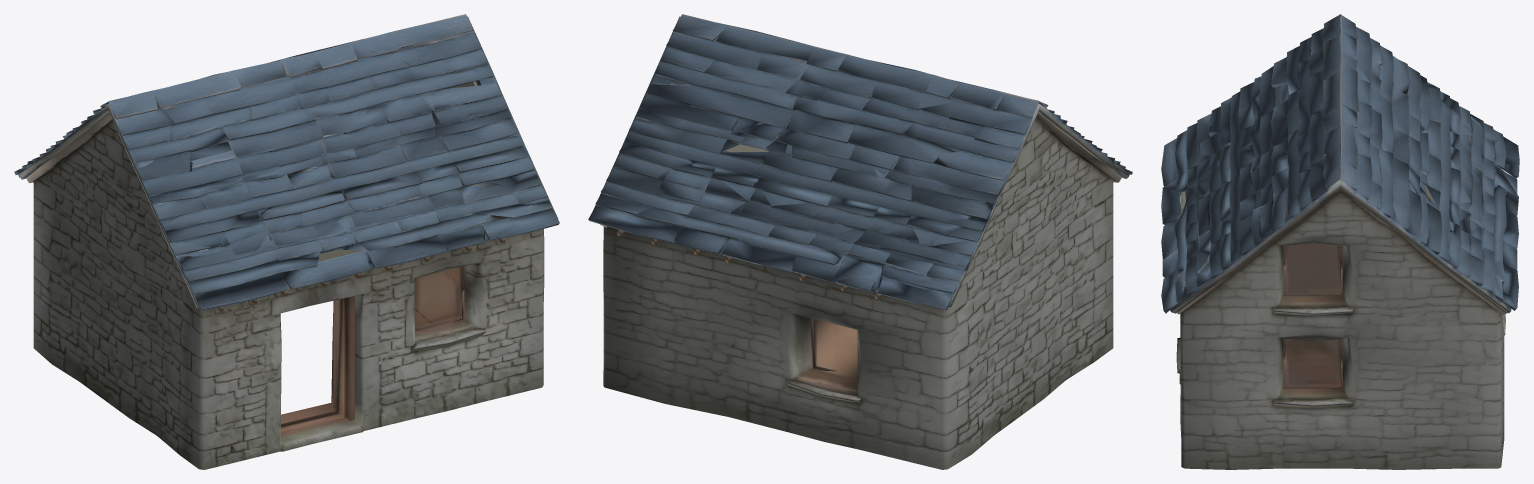
The model's file is original.glb.
The picture shows the model from 3 angles, left to right: view 1: azimuth 30°, elevation 25°; view 2: azimuth 150°, elevation 25°; view 3: azimuth 270°, elevation 25°; orthographic projection. The views are drawn at different scales.
Parts seen in each view (by area): view 1: Amber Door Bothy; view 2: Amber Door Bothy; view 3: Amber Door Bothy.
Boxes of the visible parts, <box> form: Amber Door Bothy: <box>14,14,559,469</box>; Amber Door Bothy: <box>588,14,1132,469</box>; Amber Door Bothy: <box>1161,14,1519,469</box>.
Bounding box in the file's own units: 0.998 × 0.8223 × 0.9121.
1 material, 1 textured.
